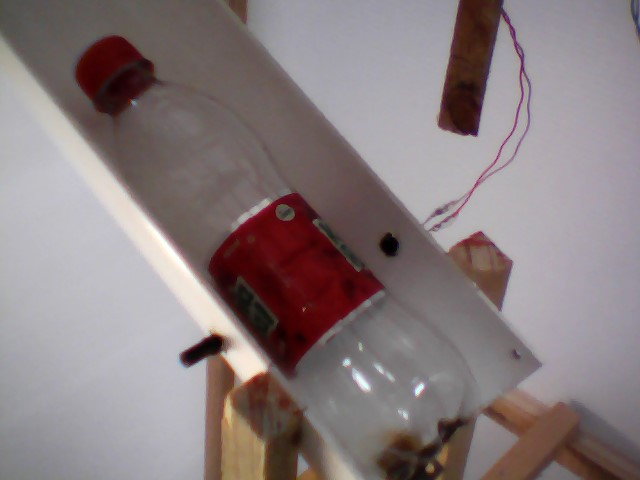plastico: (71, 29, 492, 480)
